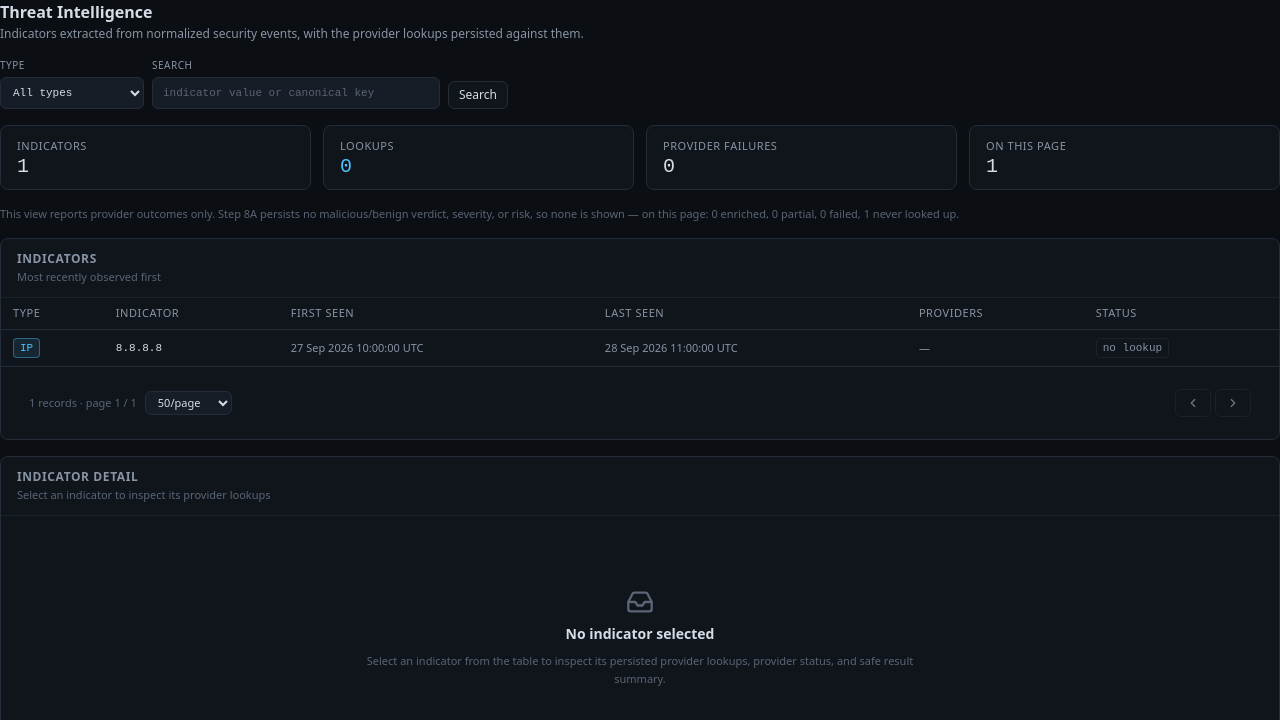
ThreatIntelPage — Step 8A read surface › reports an indicator with no recorded lookups instead of inventing providers
What coordinates should you click on to do the following:
click the row with test id "ti-indicator-row"
I would click on:
 (640, 348)
Its box is [1,330,1279,366].
(page scrolled)
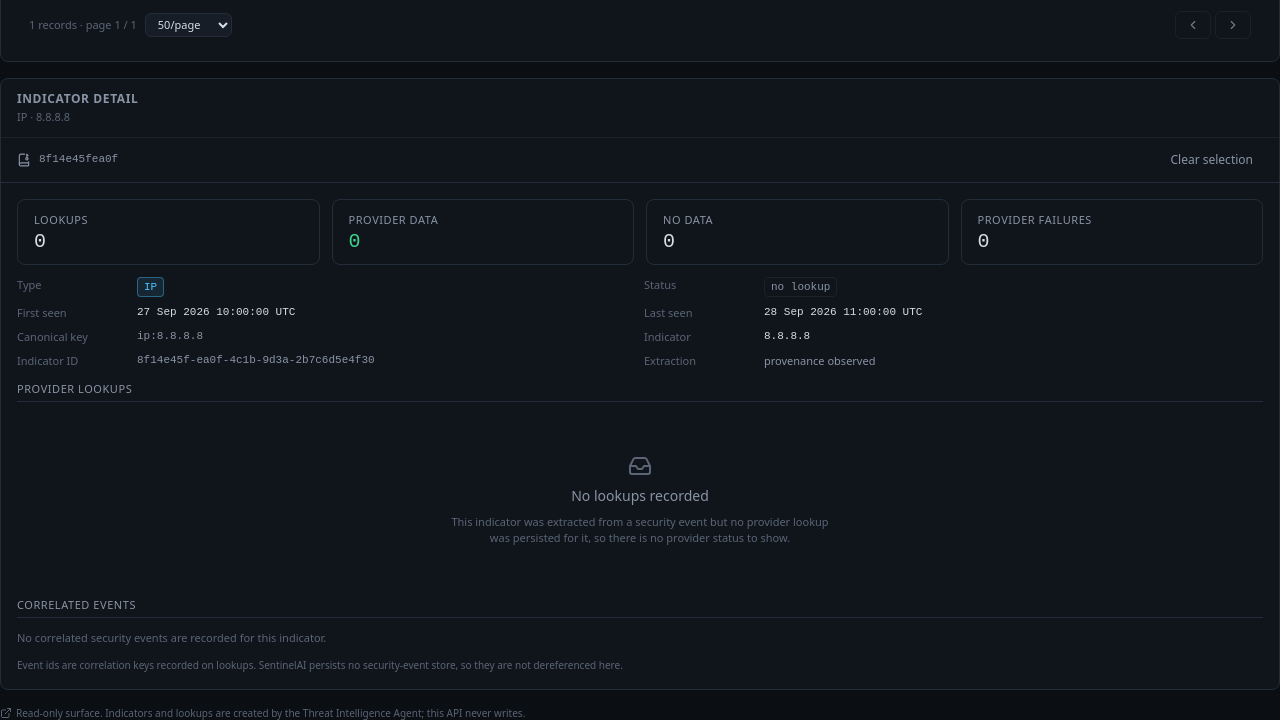
Expected: the element with test id "ti-detail-panel" shows "No lookups recorded", [571,486,709,505]
Expected: the text with test id "ti-no-events" is shown, [17,630,326,645]
